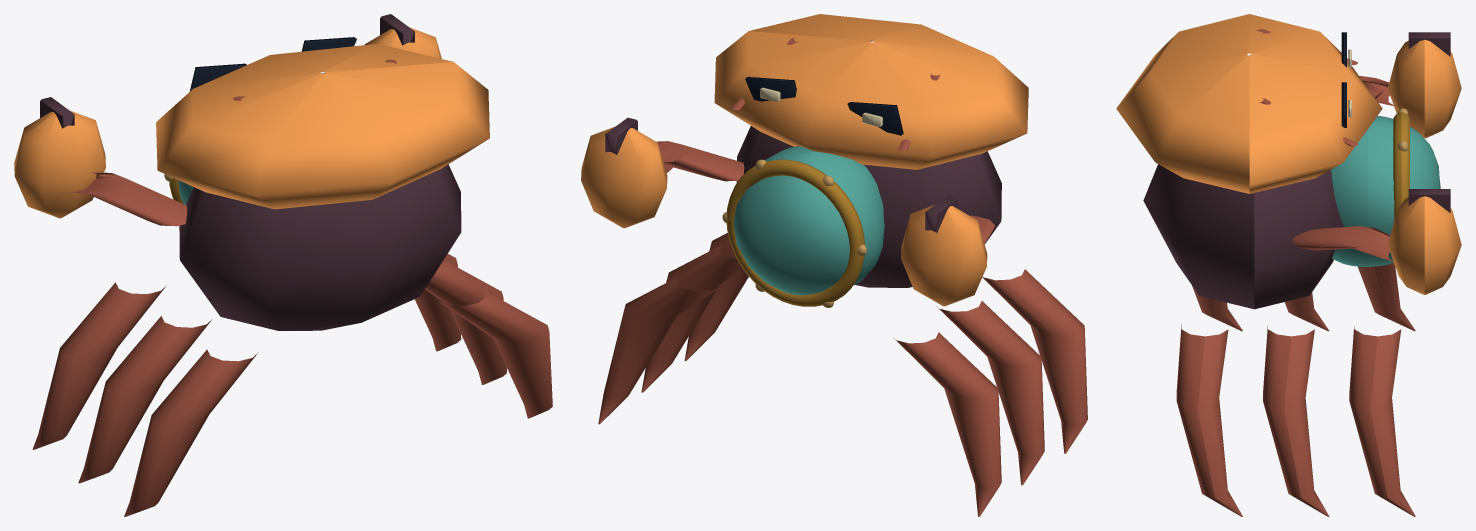
File: creature_4_2.glb
3 views of the same model, side by side, from view 1: azimuth 30°, elevation 25°; view 2: azimuth 150°, elevation 25°; view 3: azimuth 270°, elevation 25° (orthographic). The views are drawn at different scales.
Parts seen in each view (by area): view 1: UpperShell, CrustaceanBack, LegSegment0, LegSegment1, LegSegment2, Pincer-1, LegSegment5, LegSegment4, ClawArm-1, LegSegment3, Pincer1, InkEye (+1 smaller); view 2: UpperShell, GlassCore, CrustaceanBack, LegSegment2, LegSegment0, LegSegment1, Pincer-1, Pincer1, LegSegment3, CoreFrame, LegSegment4, LegSegment5 (+4 smaller); view 3: UpperShell, CrustaceanBack, GlassCore, LegSegment3, LegSegment5, LegSegment4, Pincer1, Pincer-1, ClawArm1, LegSegment0, CoreFrame, LegSegment2 (+4 smaller).
Boxes of the visible parts, left/top/right/bottom form: UpperShell: left=156, top=43, right=489, bottom=209; CrustaceanBack: left=179, top=164, right=461, bottom=330; LegSegment0: left=32, top=282, right=166, bottom=449; LegSegment1: left=78, top=316, right=212, bottom=483; LegSegment2: left=124, top=349, right=258, bottom=516; Pincer-1: left=14, top=110, right=105, bottom=218; LegSegment5: left=438, top=290, right=552, bottom=418; LegSegment4: left=425, top=260, right=506, bottom=384; ClawArm-1: left=62, top=172, right=187, bottom=226; LegSegment3: left=414, top=254, right=461, bottom=351; Pincer1: left=364, top=27, right=441, bottom=58; InkEye: left=189, top=63, right=246, bottom=91; UpperShell: left=714, top=14, right=1028, bottom=169; GlassCore: left=733, top=146, right=884, bottom=295; CrustaceanBack: left=736, top=126, right=1001, bottom=287; LegSegment2: left=982, top=269, right=1087, bottom=453; LegSegment0: left=893, top=332, right=1001, bottom=516; LegSegment1: left=936, top=301, right=1044, bottom=485; Pincer-1: left=901, top=205, right=987, bottom=306; Pincer1: left=581, top=126, right=667, bottom=228; LegSegment3: left=598, top=276, right=721, bottom=424; CoreFrame: left=726, top=159, right=864, bottom=306; LegSegment4: left=641, top=244, right=743, bottom=392; LegSegment5: left=684, top=233, right=748, bottom=361; UpperShell: left=1116, top=14, right=1382, bottom=193; CrustaceanBack: left=1143, top=164, right=1343, bottom=309; GlassCore: left=1331, top=116, right=1440, bottom=266; LegSegment3: left=1349, top=326, right=1415, bottom=516; LegSegment5: left=1176, top=324, right=1242, bottom=516; LegSegment4: left=1263, top=325, right=1329, bottom=516; Pincer1: left=1388, top=196, right=1461, bottom=294; Pincer-1: left=1387, top=39, right=1461, bottom=138; ClawArm1: left=1292, top=226, right=1394, bottom=262; LegSegment0: left=1358, top=263, right=1415, bottom=331; CoreFrame: left=1393, top=112, right=1409, bottom=265; LegSegment2: left=1192, top=286, right=1242, bottom=331.
Bounding box in the file's own units: 1.9 × 1.65 × 1.4.
